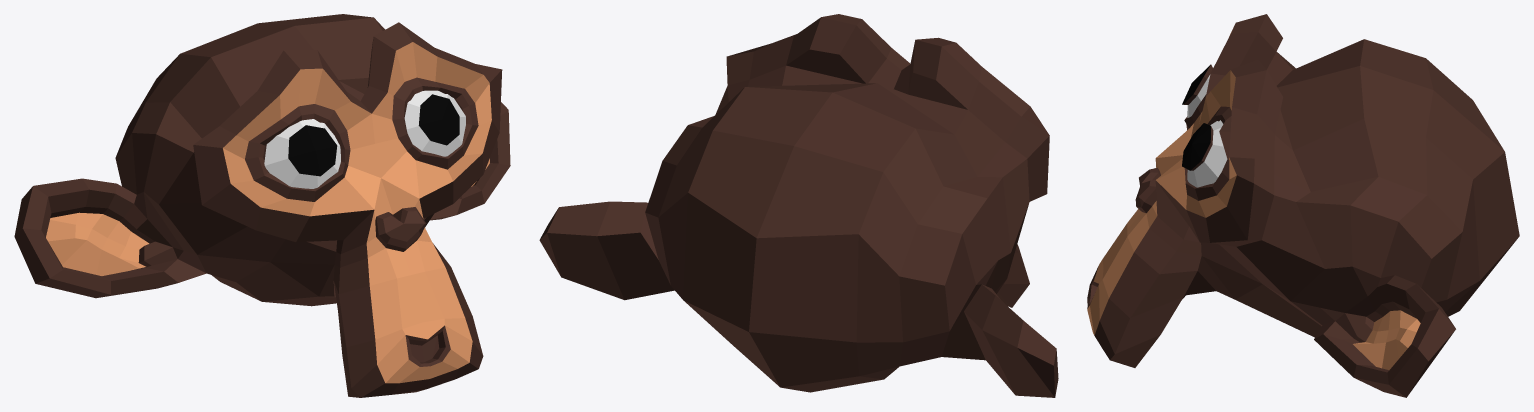
File: Suzanne.fbx
The picture shows the model from 3 angles, left to right: view 1: azimuth 30°, elevation 25°; view 2: azimuth 150°, elevation 25°; view 3: azimuth 270°, elevation 25°; orthographic projection. The views are drawn at different scales.
Visible parts, largest first — view 1: Suzanne; view 2: Suzanne; view 3: Suzanne.
Part boxes in pixels (<box>): Suzanne: <box>14,14,510,397</box>; Suzanne: <box>539,14,1058,397</box>; Suzanne: <box>1087,14,1519,397</box>.
Bounding box in the file's own units: 2.73 × 1.6 × 2.09.
